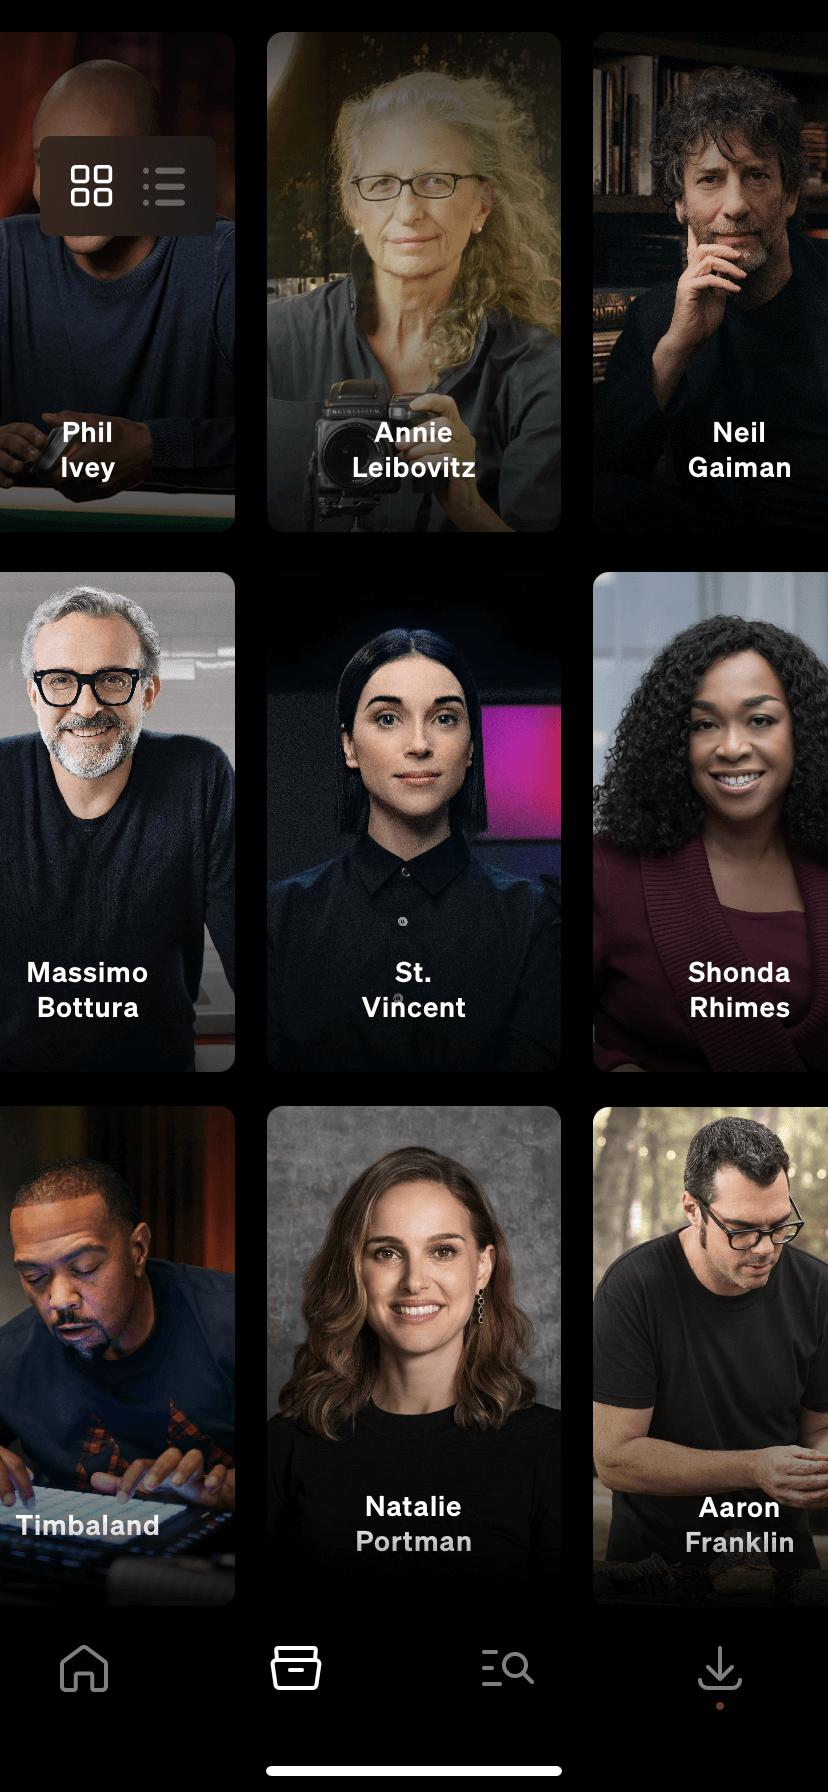Buttons: (32, 126, 226, 243)
